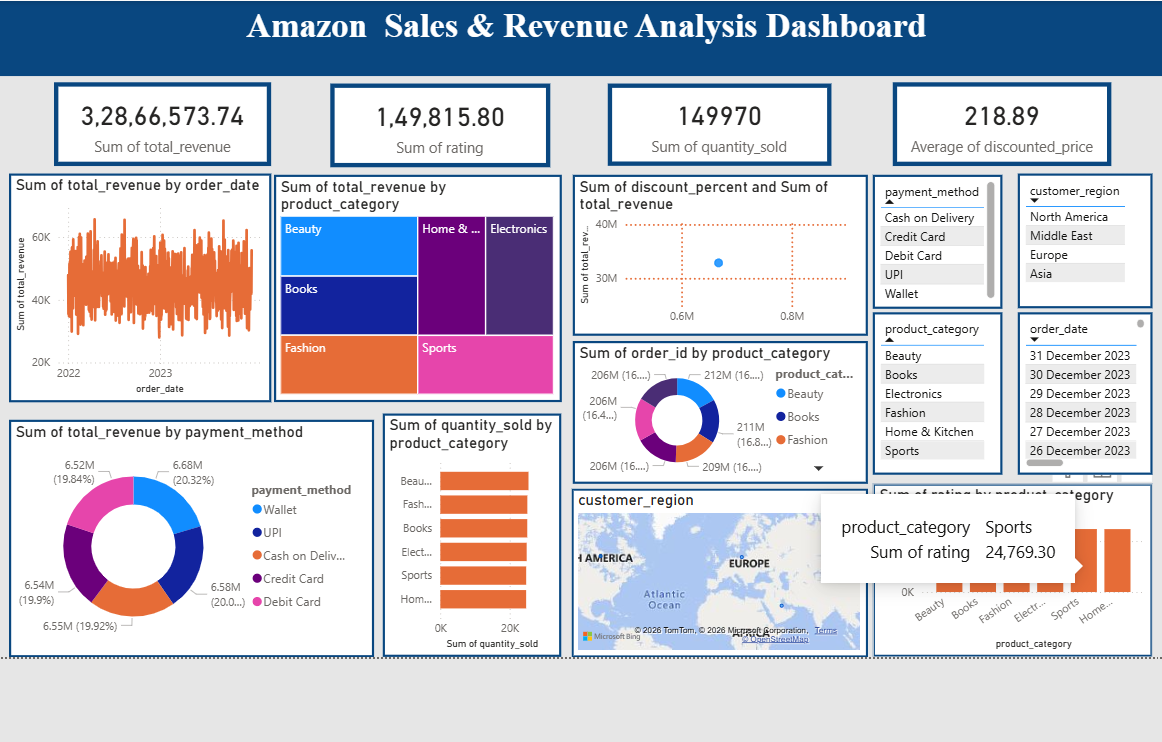

Layout of this report page (visuals, bound fields, positions):
{"tool":"powerbi","page":{"name":"Page 1","canvas":[1280,720],"ordinal":0},"visuals":[{"type":"card","fields":{"Values":["Sum(amazon_sales_dataset.total_revenue)"]},"box":[60.4,89.2,238.8,91.9],"z":0},{"type":"card","fields":{"Values":["Sum(amazon_sales_dataset.quantity_sold)"]},"box":[668.3,90.6,245.6,90.6],"z":2000},{"type":"treemap","fields":{"Group":["amazon_sales_dataset.product_category"],"Values":["Sum(amazon_sales_dataset.total_revenue)"]},"box":[301.9,190.7,315.6,249.7],"z":4000},{"type":"map","fields":{"Category":["amazon_sales_dataset.customer_region"]},"box":[628.5,535.2,325.2,185.2],"z":5000},{"type":"donutChart","fields":{"Category":["amazon_sales_dataset.payment_method"],"Y":["Sum(amazon_sales_dataset.total_revenue)"]},"box":[11,459.7,400.7,260.7],"z":6000},{"type":"lineChart","fields":{"Category":["amazon_sales_dataset.order_date"],"Y":["Sum(amazon_sales_dataset.total_revenue)"]},"box":[11,189.4,288.2,251.1],"z":7000},{"type":"clusteredBarChart","fields":{"Category":["amazon_sales_dataset.product_category"],"Y":["Sum(amazon_sales_dataset.quantity_sold)"]},"box":[421.3,452.8,196.2,267.6],"z":8000},{"type":"clusteredColumnChart","fields":{"Category":["amazon_sales_dataset.product_category"],"Y":["Sum(amazon_sales_dataset.rating)"]},"box":[959.2,529.7,307.4,190.7],"z":9000},{"type":"tableEx","fields":{"Values":["amazon_sales_dataset.product_category"]},"box":[959.2,341.7,142.7,178.4],"z":10000},{"type":"tableEx","fields":{"Values":["amazon_sales_dataset.customer_region"]},"box":[1118.4,189.4,148.2,148.2],"z":11000},{"type":"tableEx","fields":{"Values":["amazon_sales_dataset.payment_method"]},"box":[959.2,190.7,142.7,146.8],"z":12000},{"type":"tableEx","fields":{"Values":["amazon_sales_dataset.order_date"]},"box":[1118.4,341.7,148.2,178.4],"z":13000},{"type":"scatterChart","fields":{"X":["Sum(amazon_sales_dataset.discount_percent)"],"Y":["Sum(amazon_sales_dataset.total_revenue)"]},"box":[629.8,190.7,323.8,177],"z":14000},{"type":"donutChart","fields":{"Category":["amazon_sales_dataset.product_category"],"Y":["Sum(amazon_sales_dataset.order_id)"]},"box":[629.8,373.2,323.8,156.4],"z":15000},{"type":"textbox","box":[0,0,1280.3,82.3],"z":16000},{"type":"card","fields":{"Values":["Avg(amazon_sales_dataset.discounted_price)"]},"box":[981.1,89.2,240.1,91.9],"z":16001},{"type":"card","fields":{"Values":["Sum(amazon_sales_dataset.rating)"]},"box":[363.6,90.6,241.5,91.9],"z":16002}]}

Visuals, with their boxes in screenshot pixels (x1, y1, x2, y2):
card - Sum(amazon_sales_dataset.total_revenue): region(63, 83, 277, 165)
card - Sum(amazon_sales_dataset.quantity_sold): region(607, 84, 827, 165)
treemap - amazon_sales_dataset.product_category x Sum(amazon_sales_dataset.total_revenue): region(279, 174, 562, 397)
map - amazon_sales_dataset.customer_region: region(572, 482, 863, 648)
donutChart - amazon_sales_dataset.payment_method x Sum(amazon_sales_dataset.total_revenue): region(19, 415, 378, 648)
lineChart - amazon_sales_dataset.order_date x Sum(amazon_sales_dataset.total_revenue): region(19, 173, 277, 397)
clusteredBarChart - amazon_sales_dataset.product_category x Sum(amazon_sales_dataset.quantity_sold): region(386, 408, 562, 648)
clusteredColumnChart - amazon_sales_dataset.product_category x Sum(amazon_sales_dataset.rating): region(868, 477, 1143, 648)
tableEx - amazon_sales_dataset.product_category: region(868, 309, 996, 469)
tableEx - amazon_sales_dataset.customer_region: region(1010, 173, 1143, 305)
tableEx - amazon_sales_dataset.payment_method: region(868, 174, 996, 305)
tableEx - amazon_sales_dataset.order_date: region(1010, 309, 1143, 469)
scatterChart - Sum(amazon_sales_dataset.discount_percent) x Sum(amazon_sales_dataset.total_revenue): region(573, 174, 863, 332)
donutChart - amazon_sales_dataset.product_category x Sum(amazon_sales_dataset.order_id): region(573, 337, 863, 477)
textbox: region(9, 3, 1155, 77)
card - Avg(amazon_sales_dataset.discounted_price): region(887, 83, 1102, 165)
card - Sum(amazon_sales_dataset.rating): region(335, 84, 551, 166)
